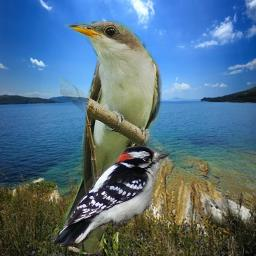Cuckoo: (60, 21, 162, 254)
Woodpecker: (50, 146, 170, 247)
